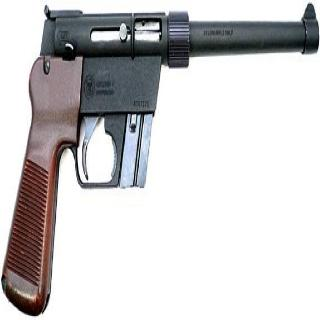gun: (7, 2, 316, 318)
